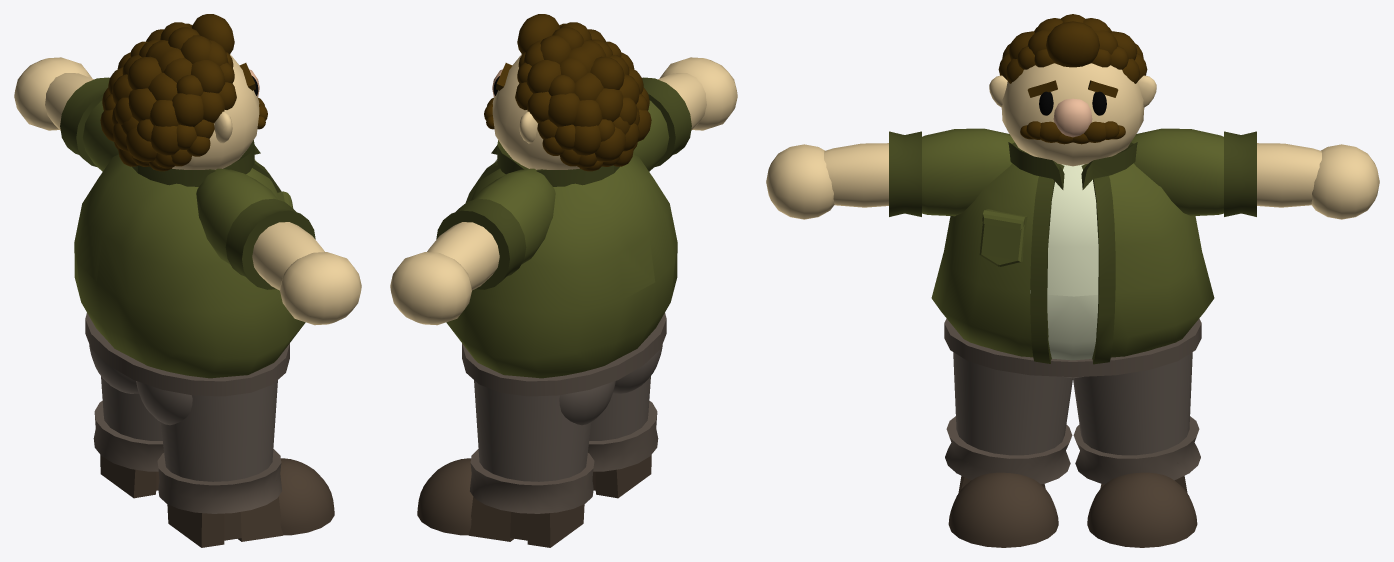
File: FATMAN GREEN SHIRT.fbx
3 renders of one model, left to right at view 1: azimuth 30°, elevation 25°; view 2: azimuth 150°, elevation 25°; view 3: azimuth 270°, elevation 25°, orthographic.
Parts seen in each view (by area): view 1: polySurface2, pCube49, pCylinder3, pCube50, pCube7, pCylinder4, pCylinder1, pCube3, pCylinder5, pCube4, pCube1, pSphere3 (+2 smaller); view 2: polySurface2, pCube49, pCylinder3, pCube50, pCube7, pCylinder4, pCylinder1, pCube3, pCylinder5, pCube4, pCube1, pSphere3 (+2 smaller); view 3: polySurface2, pCylinder3, pCube50, pCube3, pCube7, pCube1, pCube4, pCylinder4, pCylinder6, pCube49, pCylinder1, pCylinder5 (+5 smaller).
Part boxes in pixels (x1,y1,x2,y2): polySurface2: (74, 154, 305, 378); pCube49: (100, 14, 236, 171); pCylinder3: (101, 376, 277, 481); pCube50: (100, 455, 334, 547); pCube7: (14, 57, 361, 325); pCylinder4: (93, 401, 281, 513); pCylinder1: (60, 77, 315, 289); pCube3: (82, 100, 277, 264); pCylinder5: (85, 313, 289, 396); pCube4: (45, 73, 324, 290); pCube1: (172, 54, 259, 169); pSphere3: (89, 345, 192, 425); polySurface2: (446, 154, 677, 378); pCube49: (515, 14, 651, 171); pCylinder3: (474, 376, 650, 481); pCube50: (417, 455, 651, 547); pCube7: (390, 57, 737, 325); pCylinder4: (470, 401, 658, 513); pCylinder1: (436, 77, 691, 289); pCube3: (474, 100, 669, 264); pCylinder5: (462, 313, 666, 396); pCube4: (427, 73, 706, 290); pCube1: (492, 54, 579, 169); pSphere3: (559, 345, 662, 425); polySurface2: (931, 163, 1214, 378); pCylinder3: (953, 352, 1192, 455); pCube50: (948, 472, 1197, 547); pCube3: (922, 128, 1223, 216); pCube7: (766, 144, 1379, 219); pCube1: (1001, 63, 1144, 166); pCube4: (824, 143, 1321, 207); pCylinder4: (945, 416, 1200, 484); pCylinder6: (1030, 175, 1115, 364); pCube49: (998, 14, 1147, 83); pCylinder1: (889, 131, 1256, 216); pCylinder5: (944, 318, 1201, 377).
Bounding box in the file's own units: 3.78 × 8.79 × 10.09.
